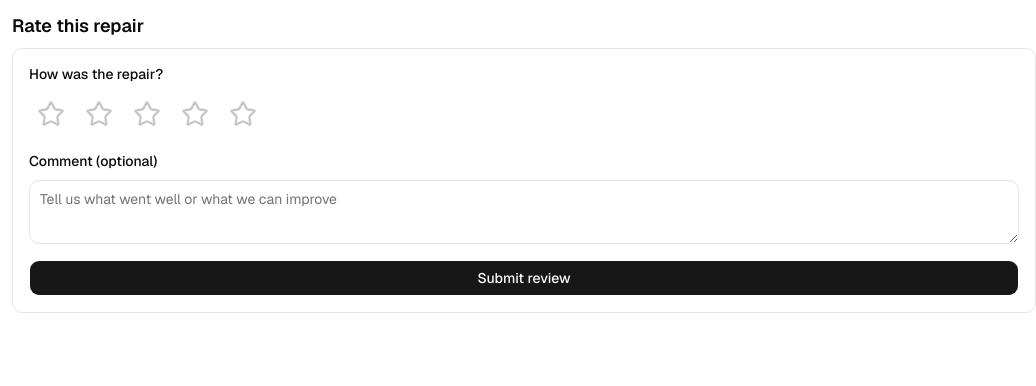
Scenario: ReviewSection › shows the API's message when the review is refused
Click the radio button named "5 stars".
click(243, 114)  # box [221,92,265,136]
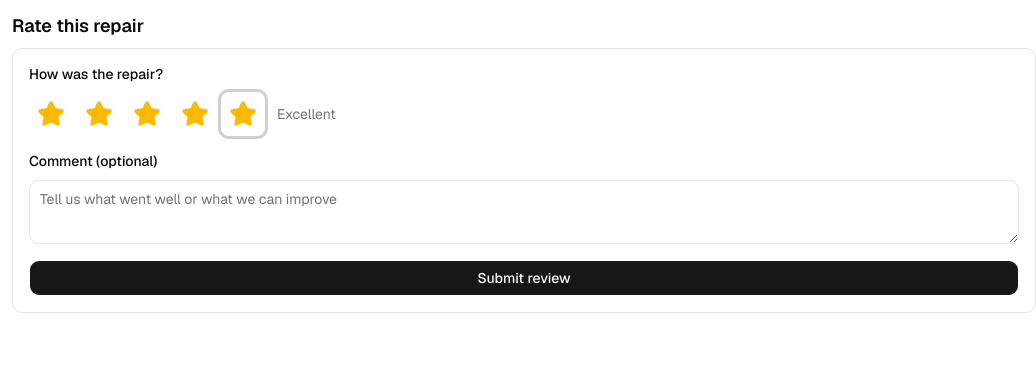
Click the button "Submit review".
click(524, 278)  # box [29,260,1019,296]
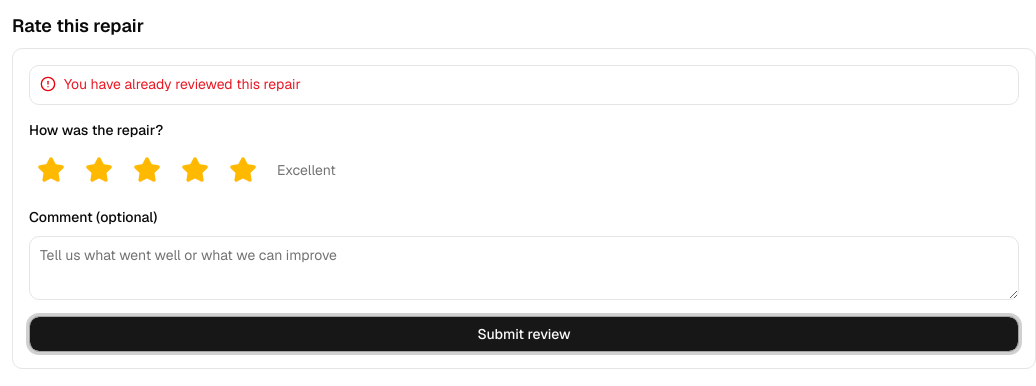
Expected: the text "You have already reviewed this repair" is shown, [64,75,301,93]
